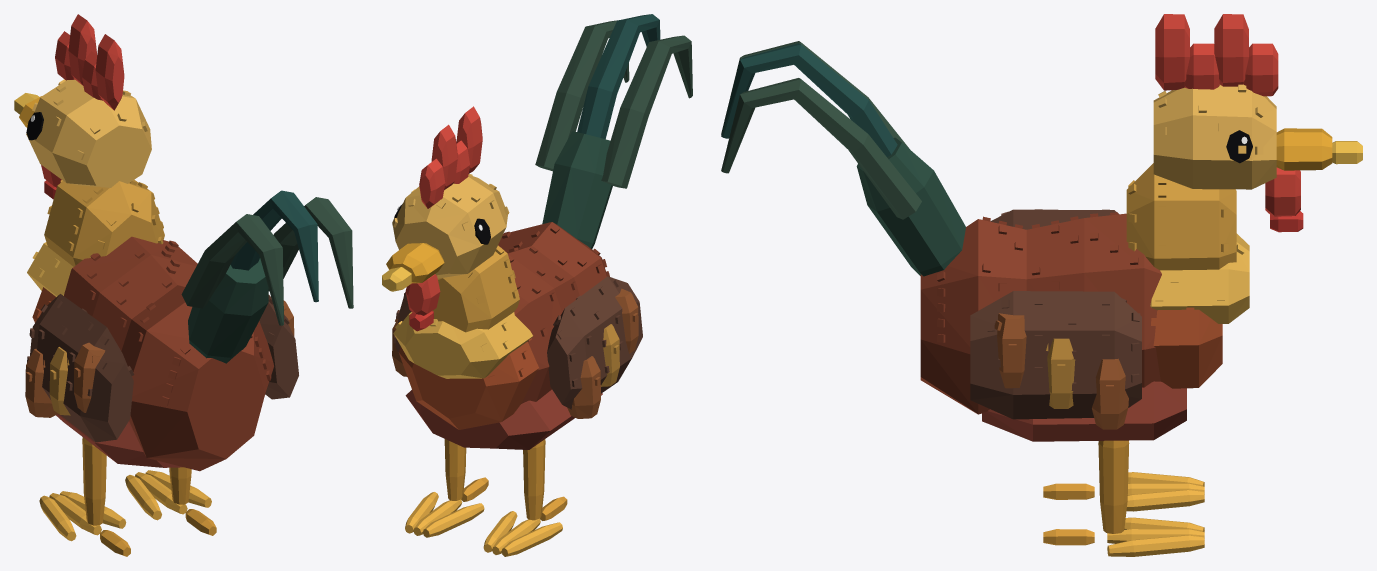
File: Rooster.fbx
The picture shows the model from 3 angles, left to right: view 1: azimuth 30°, elevation 25°; view 2: azimuth 150°, elevation 25°; view 3: azimuth 270°, elevation 25°; orthographic projection. The views are drawn at different scales.
Visible parts, largest first — view 1: Import3D_Core, Import3D_Tail, Import3D_Head, Import3D_WingL, Import3D_LegFL, Import3D_LegFR, Import3D_WingR, Import3D_Comb3, Import3D_WingFeather-10, Import3D_Comb1, Import3D_Comb0, Import3D_Comb2; view 2: Import3D_Core, Import3D_Tail, Import3D_Head, Import3D_WingL, Import3D_LegFL, Import3D_LegFR, Import3D_WingFeather-10, Import3D_Comb3, Import3D_Comb1, Import3D_Wattle, Import3D_Comb0, Import3D_Comb2; view 3: Import3D_Core, Import3D_WingR, Import3D_Tail, Import3D_Head, Import3D_LegFR, Import3D_LegFL, Import3D_Comb3, Import3D_Comb1, Import3D_WingFeather10, Import3D_Comb0, Import3D_Wattle, Import3D_WingL (+1 smaller).
Part boxes in pixels (bbox=[...]): Import3D_Core: bbox=[27, 179, 273, 471]; Import3D_Tail: bbox=[181, 190, 353, 363]; Import3D_Head: bbox=[14, 79, 151, 199]; Import3D_WingL: bbox=[27, 294, 134, 442]; Import3D_LegFL: bbox=[39, 437, 130, 556]; Import3D_LegFR: bbox=[125, 467, 216, 535]; Import3D_WingR: bbox=[259, 295, 298, 399]; Import3D_Comb3: bbox=[95, 34, 124, 110]; Import3D_WingFeather-10: bbox=[25, 349, 58, 417]; Import3D_Comb1: bbox=[68, 14, 96, 85]; Import3D_Comb0: bbox=[55, 31, 74, 80]; Import3D_Comb2: bbox=[82, 51, 102, 100]; Import3D_Core: bbox=[393, 222, 609, 449]; Import3D_Tail: bbox=[535, 14, 692, 248]; Import3D_Head: bbox=[382, 174, 509, 331]; Import3D_WingL: bbox=[547, 276, 642, 409]; Import3D_LegFL: bbox=[483, 439, 567, 556]; Import3D_LegFR: bbox=[405, 439, 488, 537]; Import3D_WingFeather-10: bbox=[567, 356, 600, 418]; Import3D_Comb3: bbox=[456, 106, 482, 173]; Import3D_Comb1: bbox=[431, 124, 457, 190]; Import3D_Wattle: bbox=[405, 274, 440, 315]; Import3D_Comb0: bbox=[419, 158, 445, 208]; Import3D_Comb2: bbox=[453, 140, 470, 183]; Import3D_Core: bbox=[920, 163, 1249, 441]; Import3D_WingR: bbox=[970, 291, 1141, 419]; Import3D_Tail: bbox=[721, 41, 965, 276]; Import3D_Head: bbox=[1153, 84, 1362, 232]; Import3D_LegFR: bbox=[1043, 440, 1204, 556]; Import3D_LegFL: bbox=[1043, 472, 1204, 511]; Import3D_Comb3: bbox=[1155, 14, 1189, 90]; Import3D_Comb1: bbox=[1214, 14, 1248, 86]; Import3D_WingFeather10: bbox=[1092, 358, 1128, 429]; Import3D_Comb0: bbox=[1244, 43, 1278, 96]; Import3D_Wattle: bbox=[1265, 167, 1300, 216]; Import3D_WingL: bbox=[990, 209, 1118, 229].
Bounding box in the file's own units: 110 × 219 × 250.
Materials: 1 (1 with a texture image).
